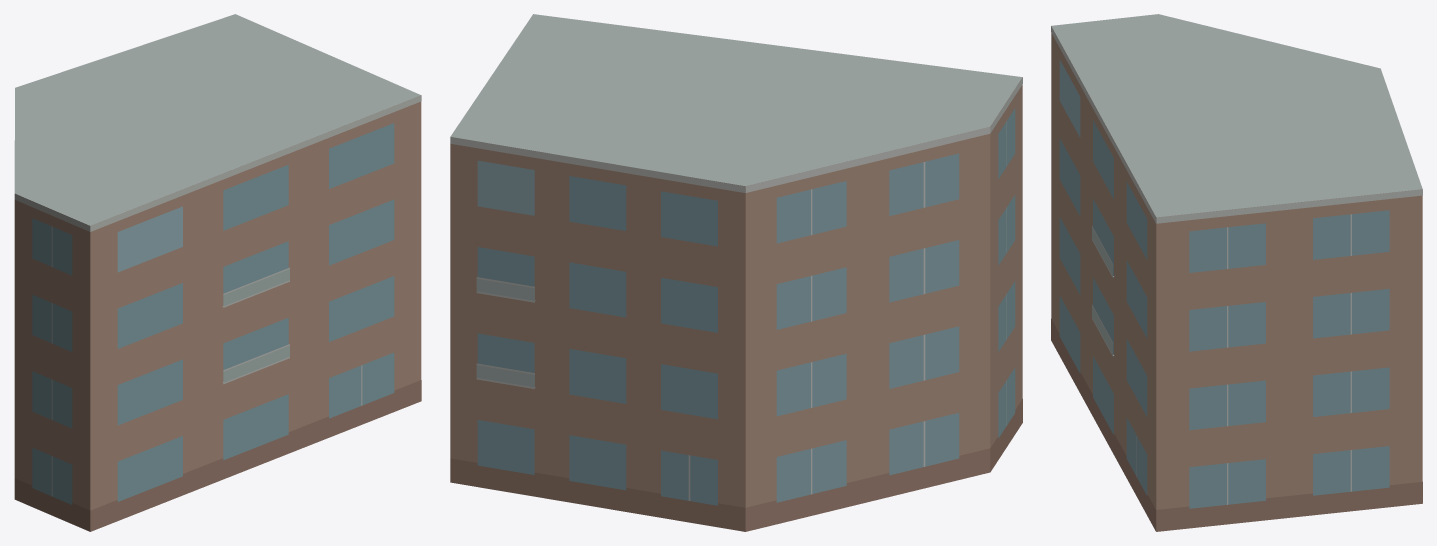
File: residential-7ebadcd6-6203-4db2-97ac-0fa33c65ca7b.glb
The picture shows the model from 3 angles, left to right: view 1: azimuth 30°, elevation 25°; view 2: azimuth 150°, elevation 25°; view 3: azimuth 270°, elevation 25°; orthographic projection. The views are drawn at different scales.
Parts seen in each view (by area): view 1: residential-7ebadcd6-6203-4db2-97ac-0fa33c65ca7b.tmp; view 2: residential-7ebadcd6-6203-4db2-97ac-0fa33c65ca7b.tmp; view 3: residential-7ebadcd6-6203-4db2-97ac-0fa33c65ca7b.tmp.
Boxes of the visible parts, x1,y1,x2,y2 form: residential-7ebadcd6-6203-4db2-97ac-0fa33c65ca7b.tmp: (14,14,421,531); residential-7ebadcd6-6203-4db2-97ac-0fa33c65ca7b.tmp: (450,14,1022,531); residential-7ebadcd6-6203-4db2-97ac-0fa33c65ca7b.tmp: (1051,14,1422,531).
Bounding box in the file's own units: 16.94 × 12.2 × 13.08.
